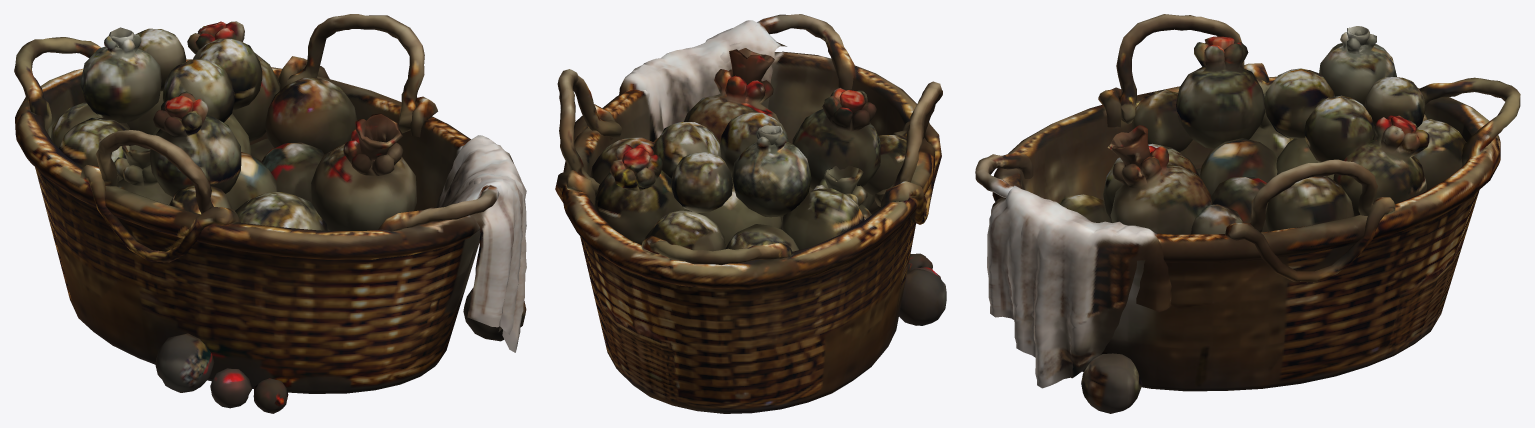
Rendered from act1_kit_v1_harvest_basket.glb.
The picture shows the model from 3 angles, left to right: view 1: azimuth 30°, elevation 25°; view 2: azimuth 150°, elevation 25°; view 3: azimuth 270°, elevation 25°; orthographic projection. The views are drawn at different scales.
Parts seen in each view (by area): view 1: act1_kit_v1_harvest_basket; view 2: act1_kit_v1_harvest_basket; view 3: act1_kit_v1_harvest_basket.
Boxes of the visible parts, x1,y1,x2,y2 form: act1_kit_v1_harvest_basket: (14, 14, 526, 413); act1_kit_v1_harvest_basket: (555, 14, 946, 413); act1_kit_v1_harvest_basket: (975, 14, 1520, 413).
Size of the model in its own units: 0.7596 by 0.5342 by 1.
Materials: 1 (1 with a texture image).
